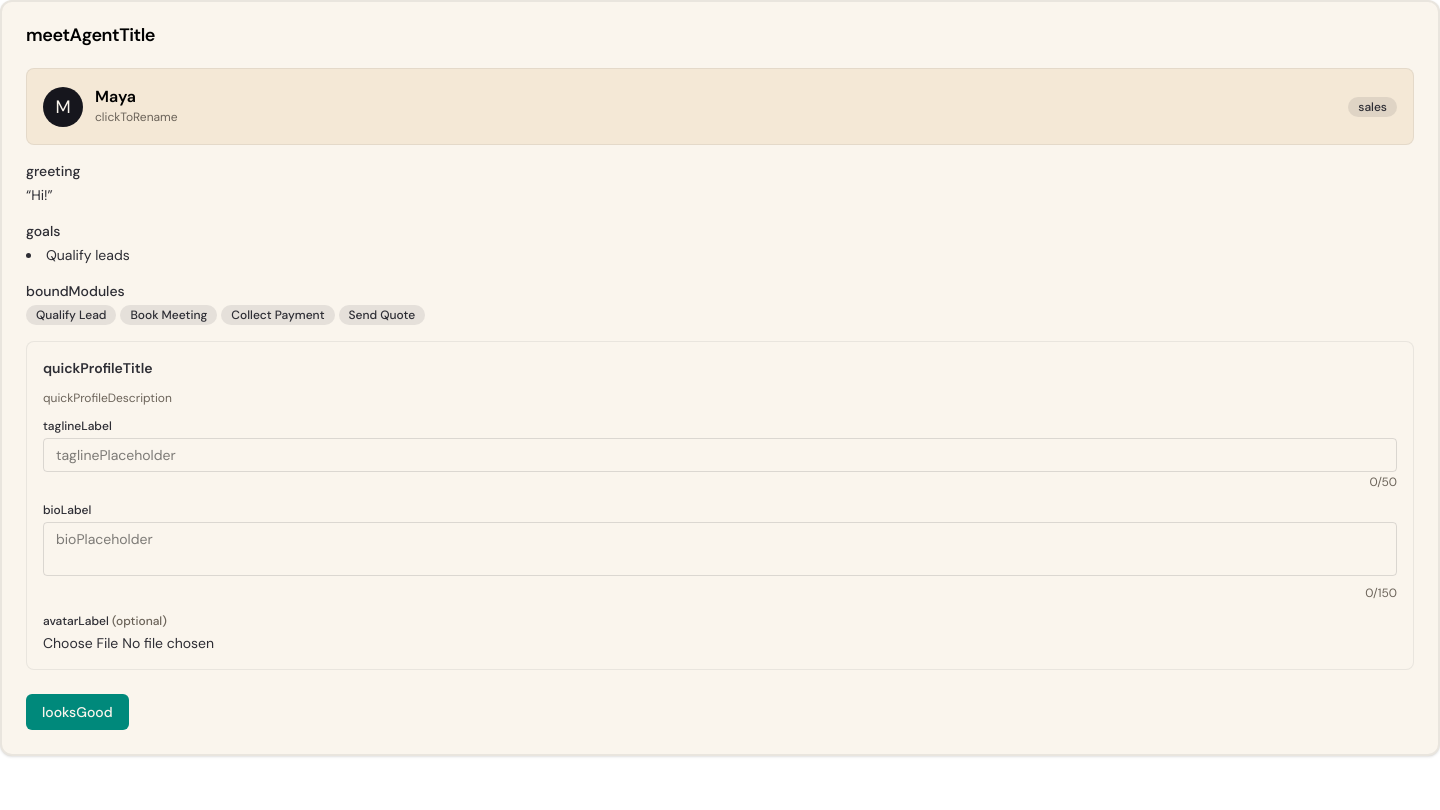
Test case: Step3MeetAgent › tagline char counter reflects current length
Type "Hello world" into the field labelled "taglineLabel". click: x=720, y=455
box: [43,438,1397,472]
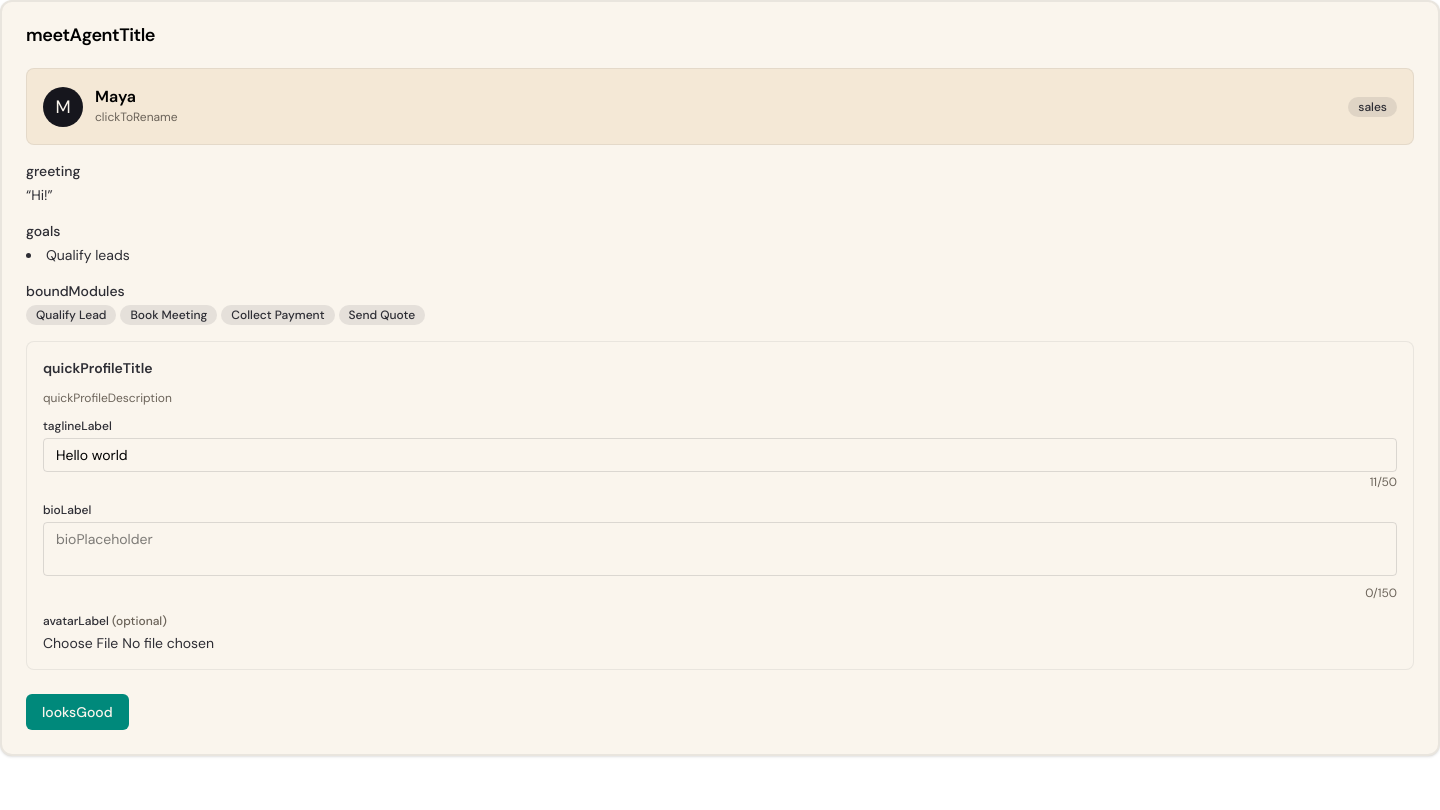
Result: the text "11/50" is shown at [1370,474,1397,490]
